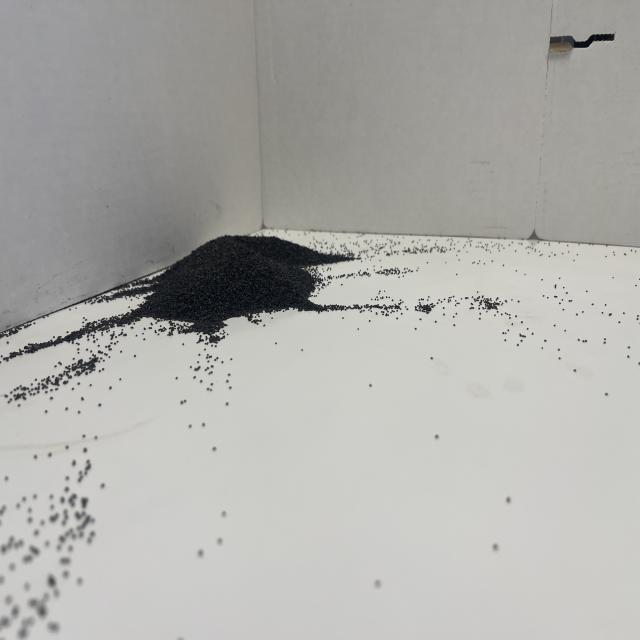Poppy Seeds: (123, 219, 336, 350)
